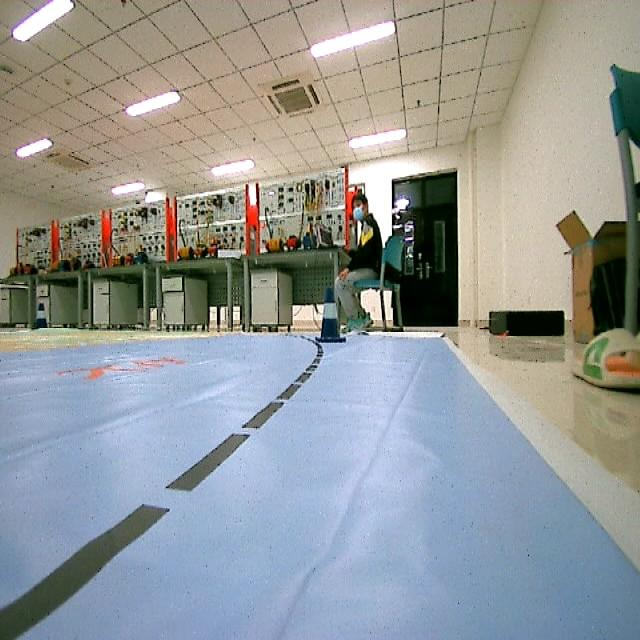obstacle: (317, 286, 349, 345)
